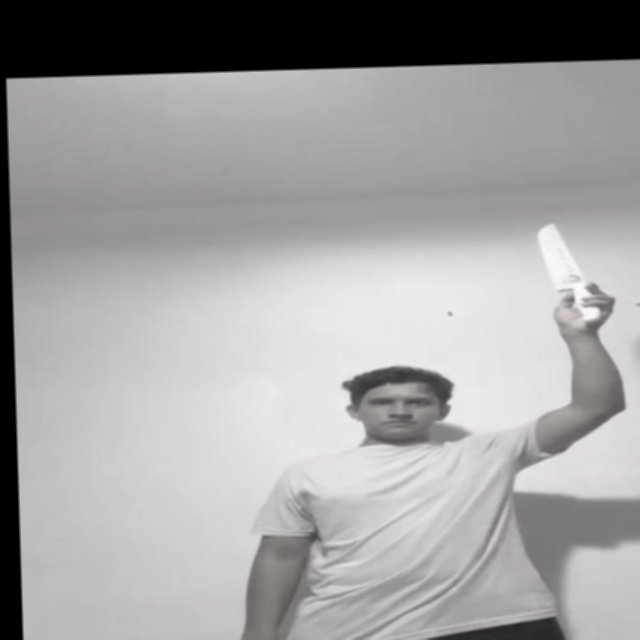Sharp-Object: (536, 221, 583, 287)
